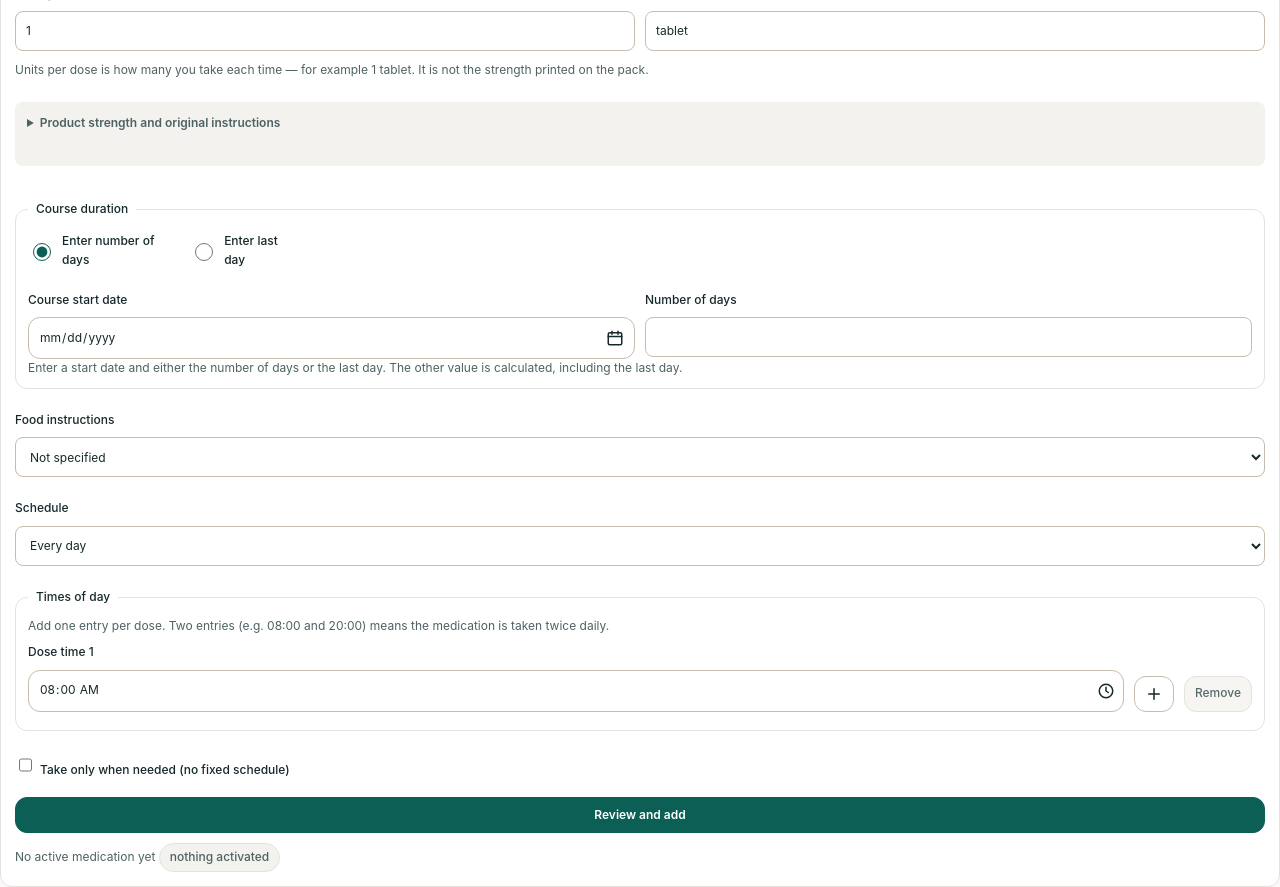
Test: does not restart a resumed draft when the parent refreshes its plan snapshot
This screenshot has width=1280, height=887.
Later steps or results of the test are not shown.
(page scrolled)
Click the button "Review and add". click: (640, 815)
box: [15,797,1265,833]
(page scrolled)
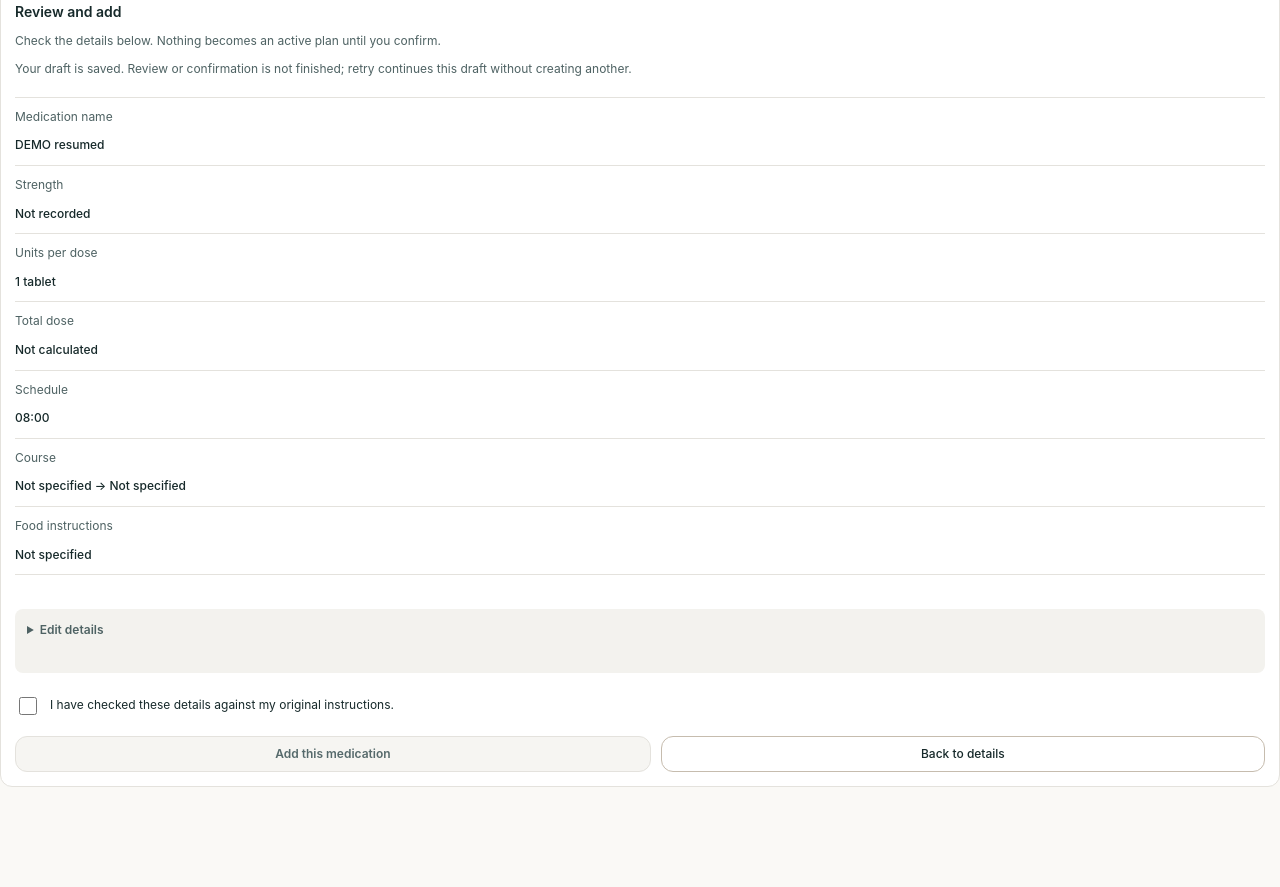
Expected: the button "Add this medication" is shown, [15,736,651,772]
